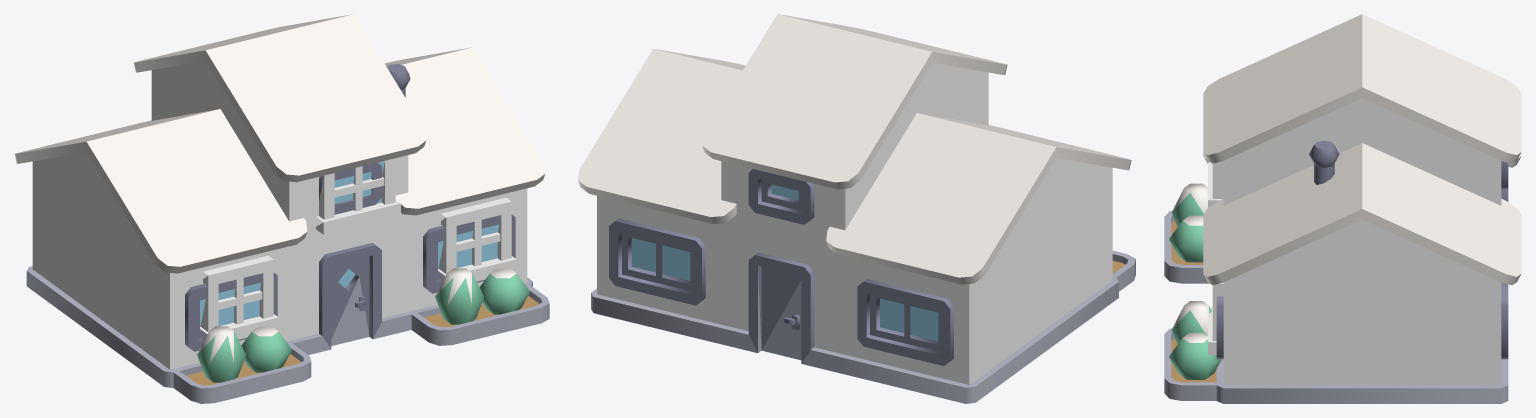
The model's file is v7-hus-tre-fonster-kenney-suburban.glb.
The picture shows the model from 3 angles, left to right: view 1: azimuth 30°, elevation 25°; view 2: azimuth 150°, elevation 25°; view 3: azimuth 270°, elevation 25°; orthographic projection. The views are drawn at different scales.
Parts seen in each view (by area): view 1: House, Window_3, Window_1, Window_2; view 2: House; view 3: House, Window_2, Window_3.
Boxes of the visible parts, x1,y1,x2,y2 form: House: (14, 14, 549, 403); Window_3: (438, 197, 516, 283); Window_1: (200, 255, 278, 341); Window_2: (316, 158, 400, 234); House: (578, 14, 1135, 403); House: (1164, 14, 1521, 403); Window_2: (1208, 161, 1223, 207); Window_3: (1208, 282, 1223, 354).
Bounding box in the file's own units: 1.3 × 0.8335 × 1.03.
